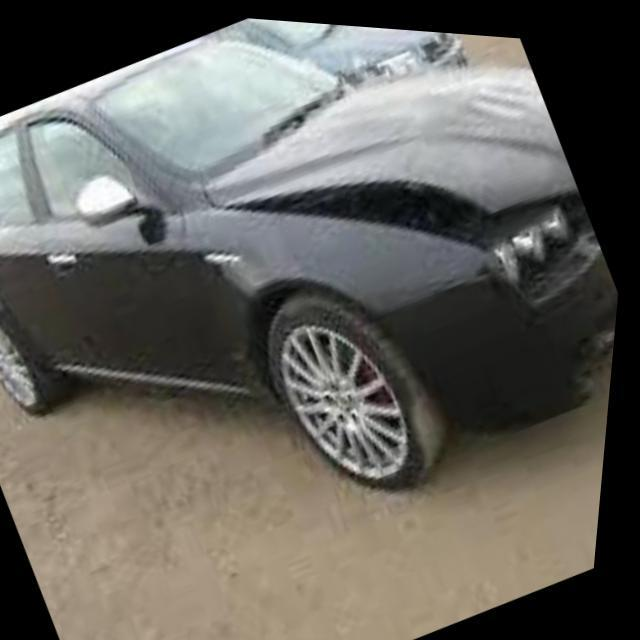dislocated part: (232, 166, 582, 245), (552, 241, 623, 394)
